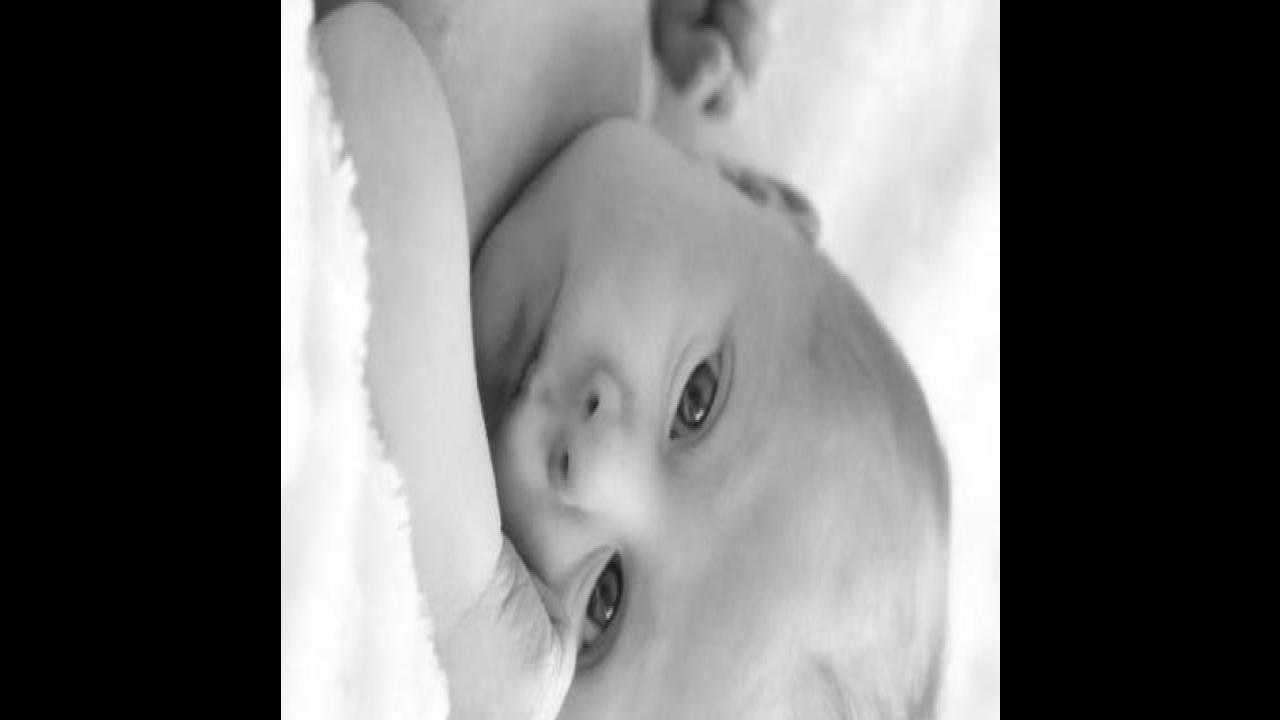hand: (434, 546, 578, 720), (656, 0, 794, 126)
